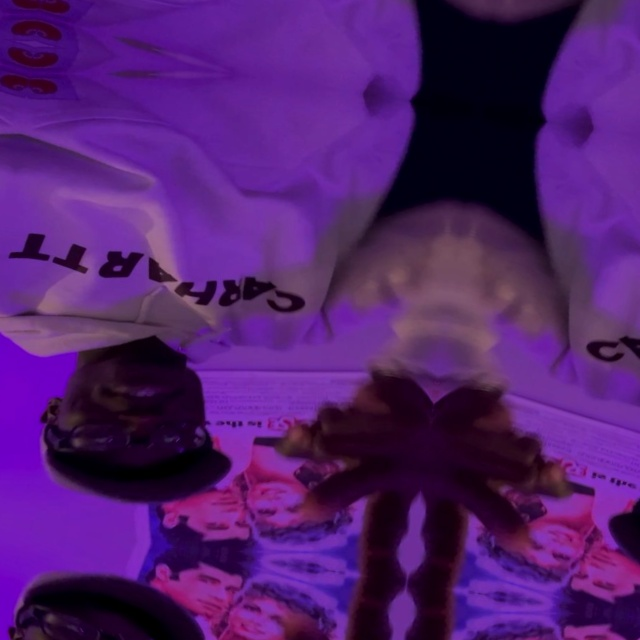Scissors: (215, 569, 405, 640)
